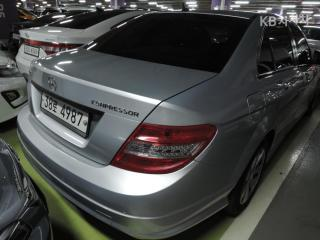3: (44, 94, 49, 109)
4: (59, 102, 66, 119)
7: (76, 111, 84, 127)
8: (70, 108, 77, 124), (47, 96, 53, 110)
9: (65, 104, 71, 121)
로: (53, 99, 59, 114)
